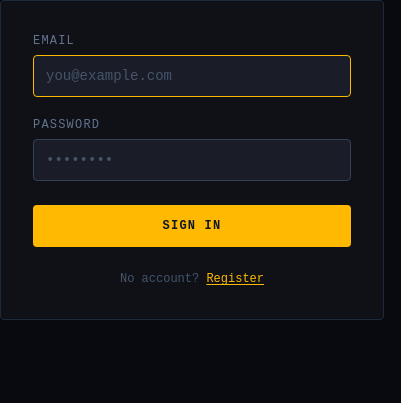
Test case: LoginForm › shows inline error on login failure without resetting fields
The width and height of the screenshot is (401, 403).
Type "user@example.com" into the field with placeholder "you@example.com" at {"x": 192, "y": 76}, box [33,55,351,97]
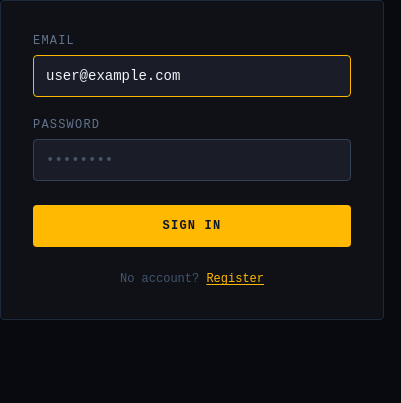
Type "wrongpassword" into the password field with placeholder "••••••••" at {"x": 192, "y": 160}, box [33,139,351,181]
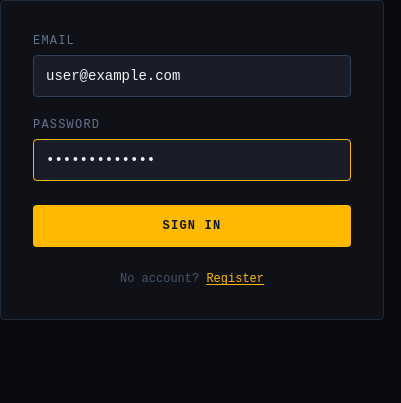
Click the button "Sign in" at {"x": 192, "y": 226}, box [33,205,351,247]
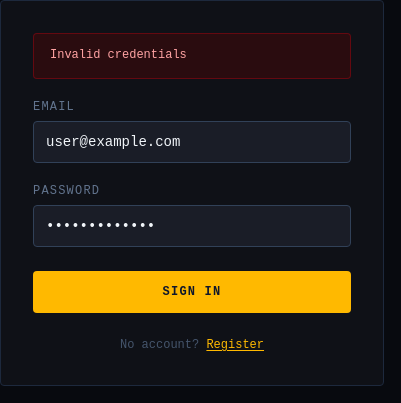
expect the text "Invalid credentials" is shown: met, box [33,33,351,78]
